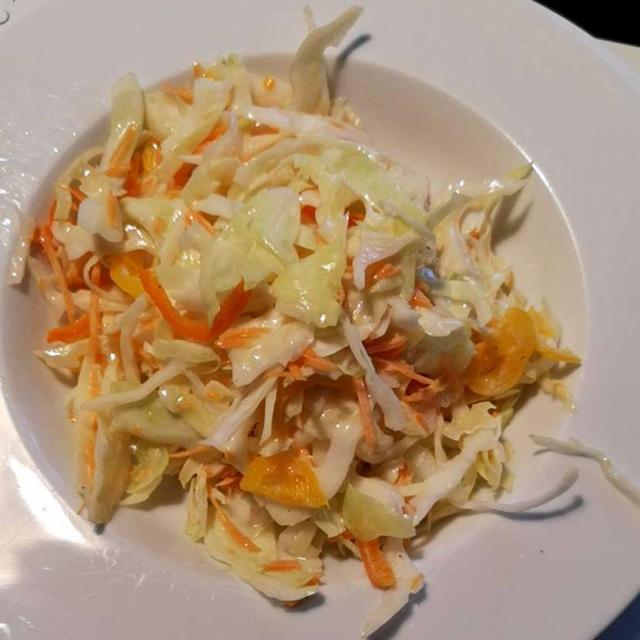coleslaw-chopped-without-sauce: (39, 36, 569, 597)
